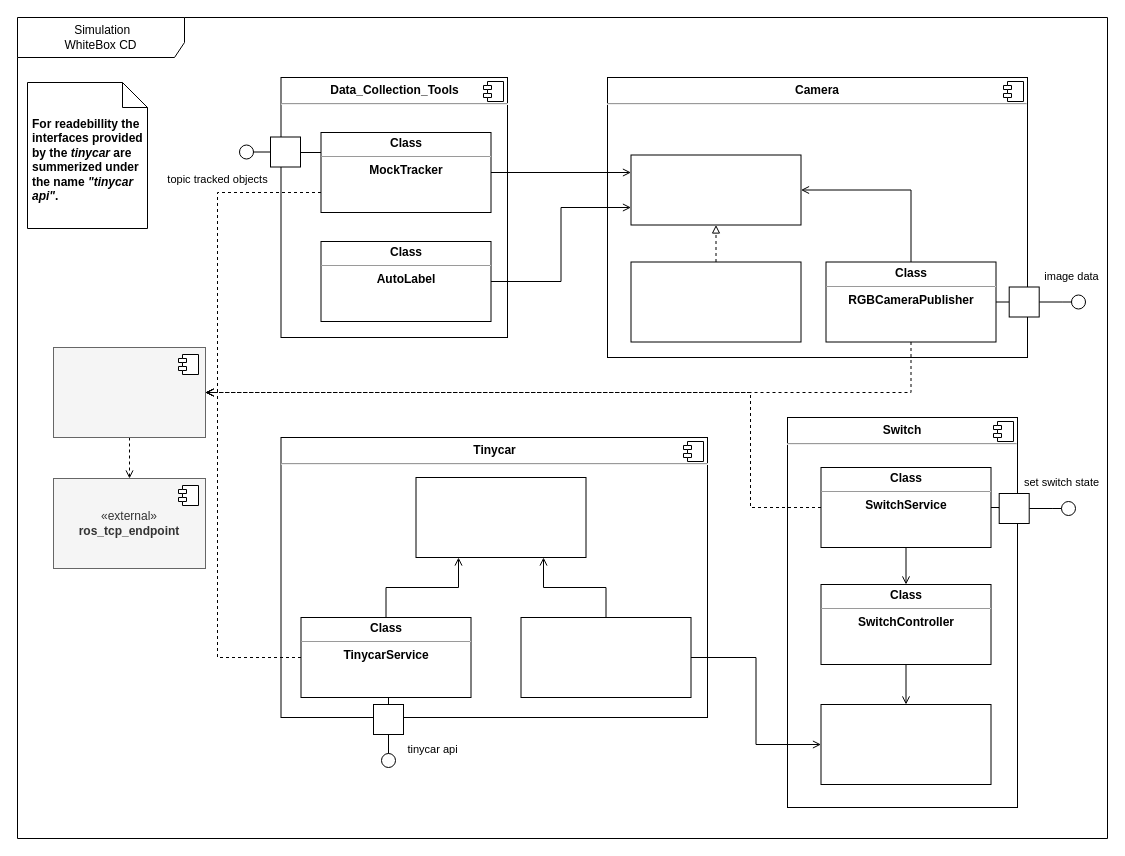
Image size: 1125x856. Some labels were removed from this diagram. The shapes that lost their labels are listed below. From the top down, each one's centre as x and y in pixels, then its label:
At (715,189): "«interface» IRGBCamera".
At (715,301): "Class RGBCamera".
At (129,392): "«external» ROS-TCP-Connector".
At (500,517): "Class GenericCar".
At (605,657): "Class WaypointFollower".
At (905,744): "Class Waypoint".
